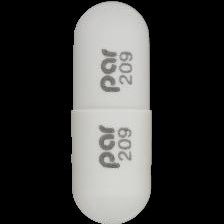49884-113: (0, 0, 224, 224)
